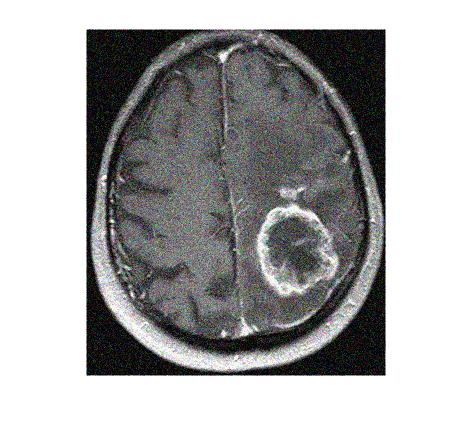Brain_Cancer: (254, 204, 342, 300)
